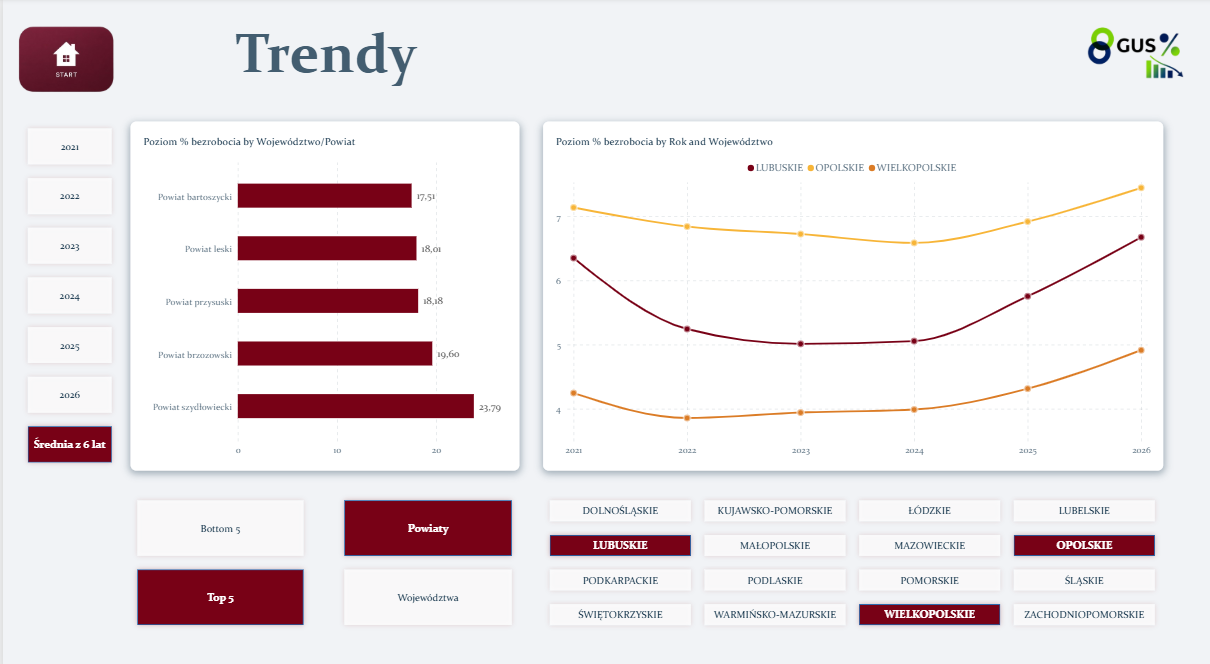

Layout of this report page (visuals, bound fields, positions):
{"tool":"powerbi","page":{"name":"Trendy","canvas":[1920,1080],"ordinal":2},"visuals":[{"type":"lineChart","fields":{"Category":["DIM_Date_Table.Year"],"Y":["FACT_projektBezrobocie_GOLD.Bezrobocie_Wartosc_Dynamiczne"],"Series":["DIM_Województwa_GOLD.Nazwa"]},"box":[857.9,197.4,986.8,555.3],"z":0},{"type":"advancedSlicerVisual","fields":{"Values":["DIM_Województwa_GOLD.Nazwa"]},"box":[858.9,789.7,985.4,221.9],"z":1000},{"type":"clusteredBarChart","fields":{"Y":["FACT_projektBezrobocie_GOLD.Bezrobocie_Do_Wykresu"],"Category":["DIM_Geo_GOLD.Nazwa"]},"box":[202.6,197.4,618.4,555.3],"z":2000},{"type":"advancedSlicerVisual","fields":{"Values":["Parametr_Poziom.Poziom"]},"box":[532.1,789.7,288.7,221.9],"z":3000},{"type":"advancedSlicerVisual","fields":{"Values":["Parametr_TopBottom.Kierunek"]},"box":[202.8,789.7,286.3,221.9],"z":4000},{"type":"advancedSlicerVisual","fields":{"Values":["Filtry_Lat.Wybor"]},"box":[28.9,197.4,155.3,557.9],"z":5000},{"type":"image","box":[1682,0,237.1,173.7],"z":6000},{"type":"textbox","box":[200,36.8,597.4,113.2],"z":7000},{"type":"image","box":[0,0,200.4,198],"z":8000}]}

Visuals, with their boxes in screenshot pixels (x1, y1, x2, y2), scaled from the page's 1920x1080 canvas onto the 1210x664 screenshot:
lineChart - DIM_Date_Table.Year x FACT_projektBezrobocie_GOLD.Bezrobocie_Wartosc_Dynamiczne: Rect(541, 121, 1163, 463)
advancedSlicerVisual - DIM_Województwa_GOLD.Nazwa: Rect(541, 486, 1162, 622)
clusteredBarChart - FACT_projektBezrobocie_GOLD.Bezrobocie_Do_Wykresu x DIM_Geo_GOLD.Nazwa: Rect(128, 121, 517, 463)
advancedSlicerVisual - Parametr_Poziom.Poziom: Rect(335, 486, 517, 622)
advancedSlicerVisual - Parametr_TopBottom.Kierunek: Rect(128, 486, 308, 622)
advancedSlicerVisual - Filtry_Lat.Wybor: Rect(18, 121, 116, 464)
image: Rect(1060, 0, 1209, 107)
textbox: Rect(126, 23, 503, 92)
image: Rect(0, 0, 126, 122)
